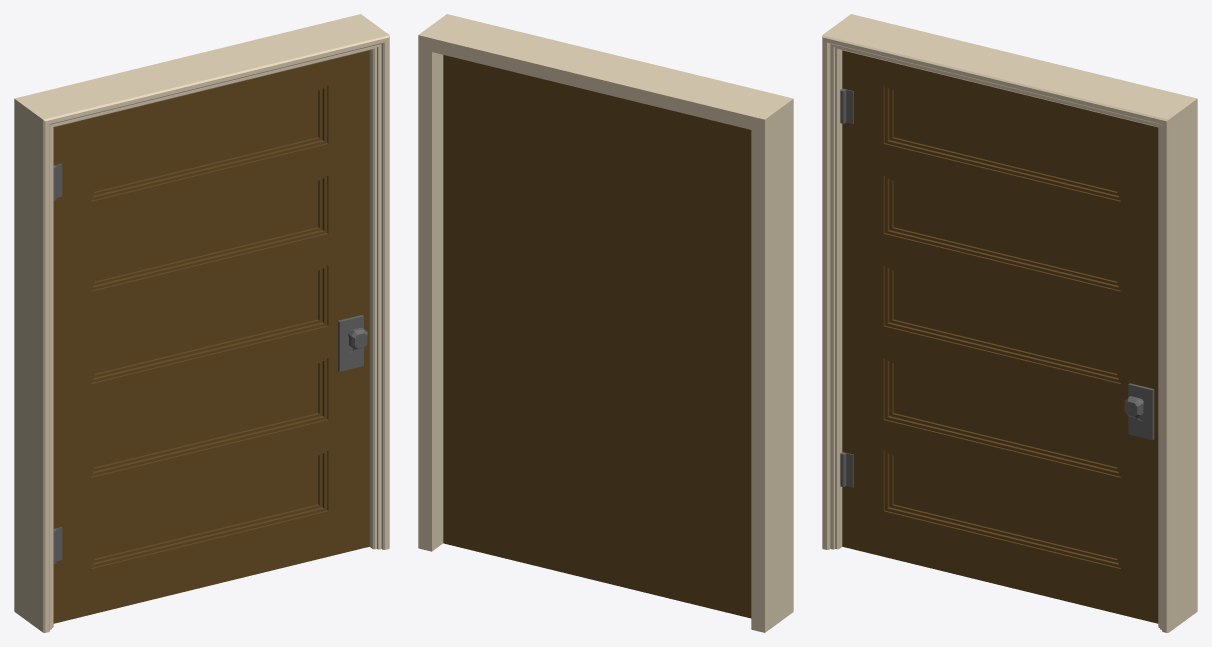
File: NurseryDoor.fbx
The picture shows the model from 3 angles, left to right: view 1: azimuth 30°, elevation 25°; view 2: azimuth 150°, elevation 25°; view 3: azimuth 330°, elevation 25°; orthographic projection.
Parts seen in each view (by area): view 1: pCube355; view 2: pCube355; view 3: pCube355.
Boxes of the visible parts, x1=… form: pCube355: x1=14, y1=14, x2=389, y2=632; pCube355: x1=418, y1=14, x2=793, y2=632; pCube355: x1=822, y1=14, x2=1197, y2=632.
Bounding box in the file's own units: 282 × 398 × 47.17.
